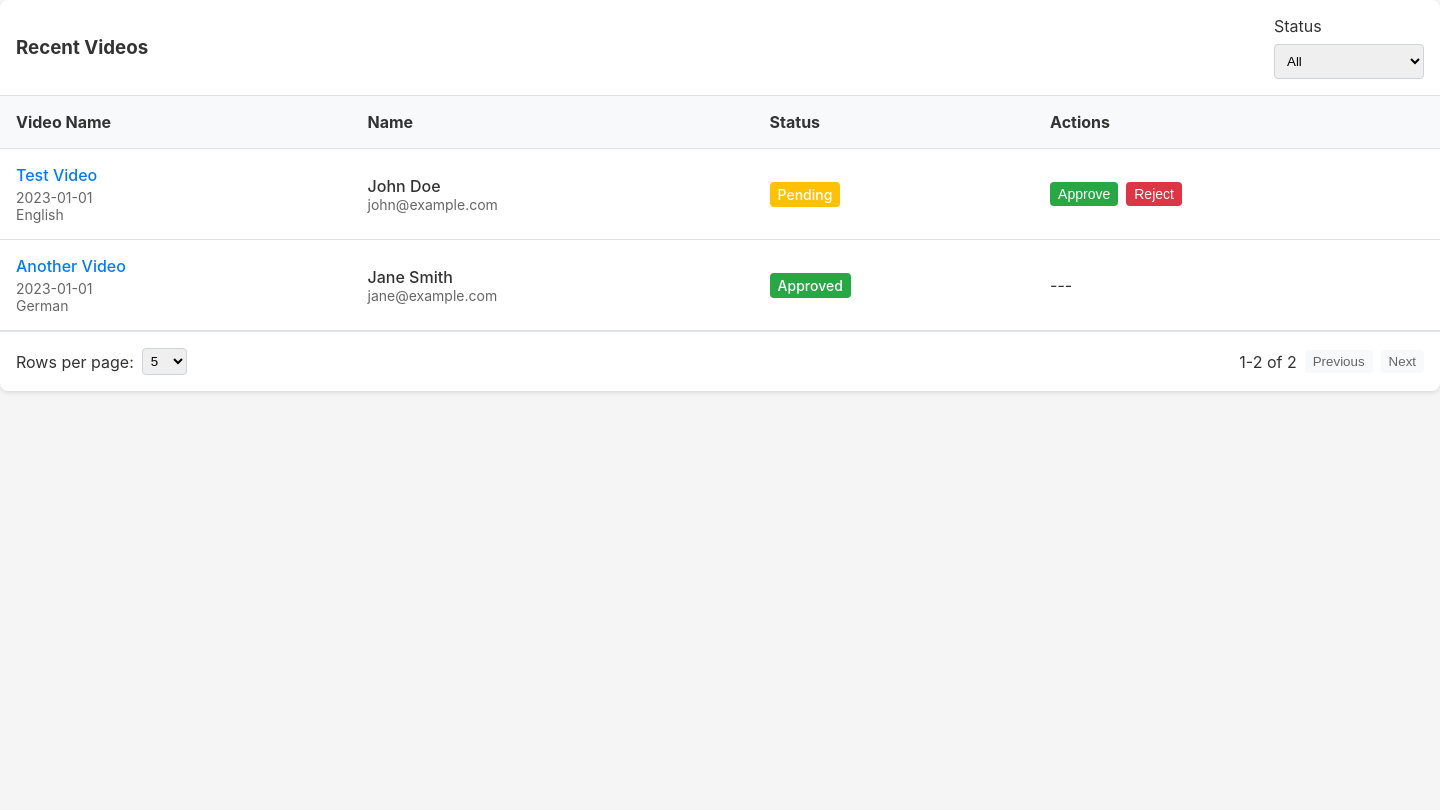
Test: RecentOrdersTable Component › displays error snackbar after failed approve
The image size is (1440, 810).
Expected: the link "Test Video" is shown, [16,165,97,185]
Click the button "Approve": [1084, 194] box [1050,182,1118,206]
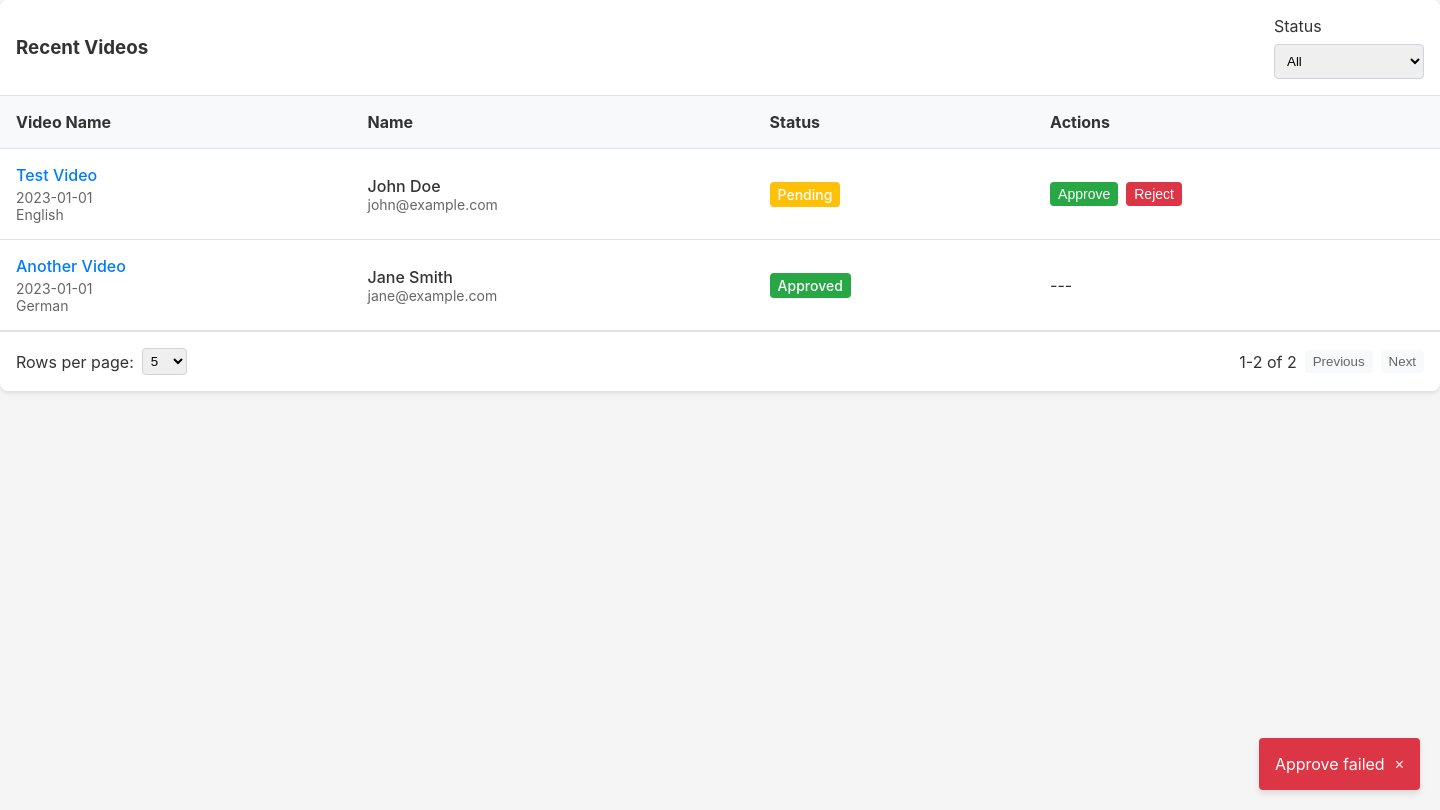
Expected: the text "Approve failed" is shown, [1275,754,1385,774]
